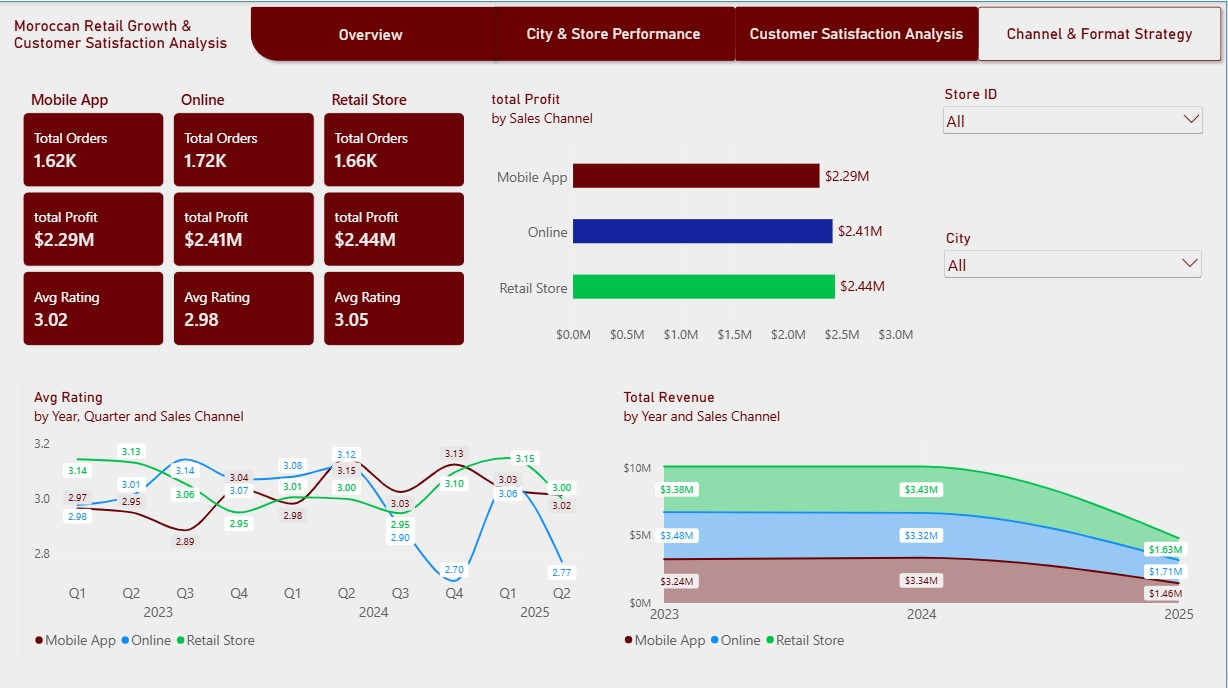

This screenshot's page, from the dashboard's own definition file:
{"tool":"powerbi","page":{"name":"Page 1","canvas":[1920,1080],"ordinal":0},"visuals":[{"type":"shape","box":[0,0,1919,1081],"z":0},{"type":"slicer","fields":{"Values":["DimStore.City"]},"box":[1472.3,356.4,412.5,210],"z":0,"group":"g1"},{"type":"slicer","fields":{"Values":["DimStore.Store ID"]},"box":[1470,131.3,417.3,196.9],"z":1000,"group":"g1"},{"type":"actionButton","title":"Button1","box":[762.5,0,397.5,102.5],"z":3000},{"type":"actionButton","title":"Button2","box":[385,0,400,102.5],"z":4000},{"type":"actionButton","title":"Button1","box":[1142.5,0,397.5,102.5],"z":5000},{"type":"actionButton","title":"Button4","box":[1521.6,0,397.6,102.4],"z":21000},{"type":"cardVisual","fields":{"Data":["FactSales.Total Orders","FactSales.total Profit","FactSales.Avg Rating"],"Rows":["DimChannel.Sales Channel"]},"box":[37.5,131.3,689.3,407.9],"z":22000},{"type":"barChart","fields":{"Category":["DimChannel.Sales Channel"],"Y":["FactSales.total Profit"]},"box":[752.6,124.3,694,433.7],"z":23000},{"type":"lineChart","fields":{"Category":["DimDate.Year"],"Series":["DimChannel.Sales Channel"],"Y":["FactSales.Total Revenue"]},"box":[960,591.3,925.4,442.9],"z":24000},{"type":"lineChart","title":"Customer Satisfaction Trend by Channel","fields":{"Category":["DimDate.Year","DimDate.Quarter"],"Series":["DimChannel.Sales Channel"],"Y":["FactSales.Avg Rating"]},"box":[37.5,590.8,893.2,443.1],"z":25000},{"type":"group","id":"g1","title":"Slicers 3","box":[1470,131.3,415,433.7],"z":26000},{"type":"textbox","box":[23.4,23.4,379.8,96.1],"z":27000}]}

Visuals, with their boxes in screenshot pixels (x1, y1, x2, y2), scaled from the page's 1920x1080 canvas onto the 1228x688 screenshot:
shape: (0,0,1227,687)
slicer - DimStore.City: (942,227,1205,361)
slicer - DimStore.Store ID: (940,84,1207,209)
"Button1" actionButton: (488,0,742,65)
"Button2" actionButton: (246,0,502,65)
"Button1" actionButton: (731,0,985,65)
"Button4" actionButton: (973,0,1227,65)
cardVisual - FactSales.Total Orders x FactSales.total Profit: (24,84,465,343)
barChart - DimChannel.Sales Channel x FactSales.total Profit: (481,79,925,355)
lineChart - DimDate.Year x DimChannel.Sales Channel: (614,377,1206,659)
"Customer Satisfaction Trend by Channel" lineChart: (24,376,595,659)
"Slicers 3" group: (940,84,1206,360)
textbox: (15,15,258,76)
